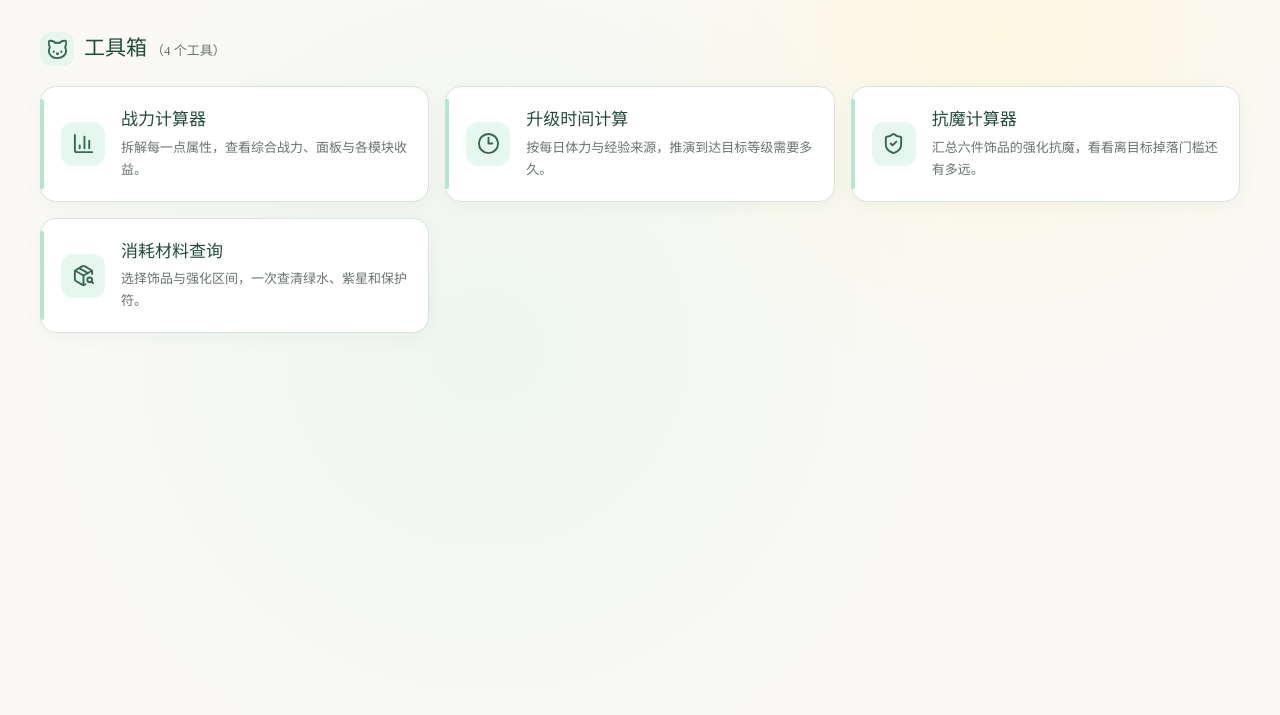
Test case: 多板块导航与状态 › 消耗材料查询 不显示顶部导出、导入、公式与清空按钮
The width and height of the screenshot is (1280, 715).
Click the link with aria-label "进入消耗材料查询".
click(235, 276)  # box [40, 218, 429, 333]
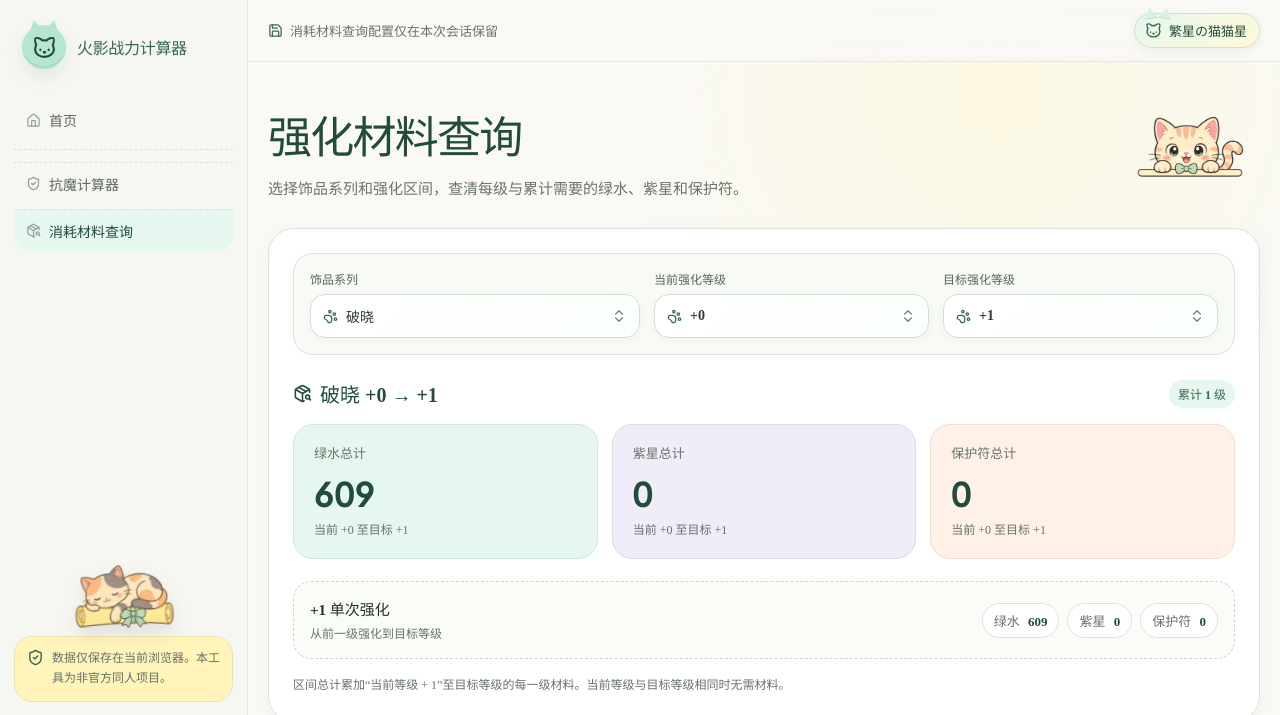
Expected: the button "下载 PDF" is not shown
Expected: the button "导入" is not shown
Click the button "首页".
click(124, 120)  # box [14, 99, 233, 141]
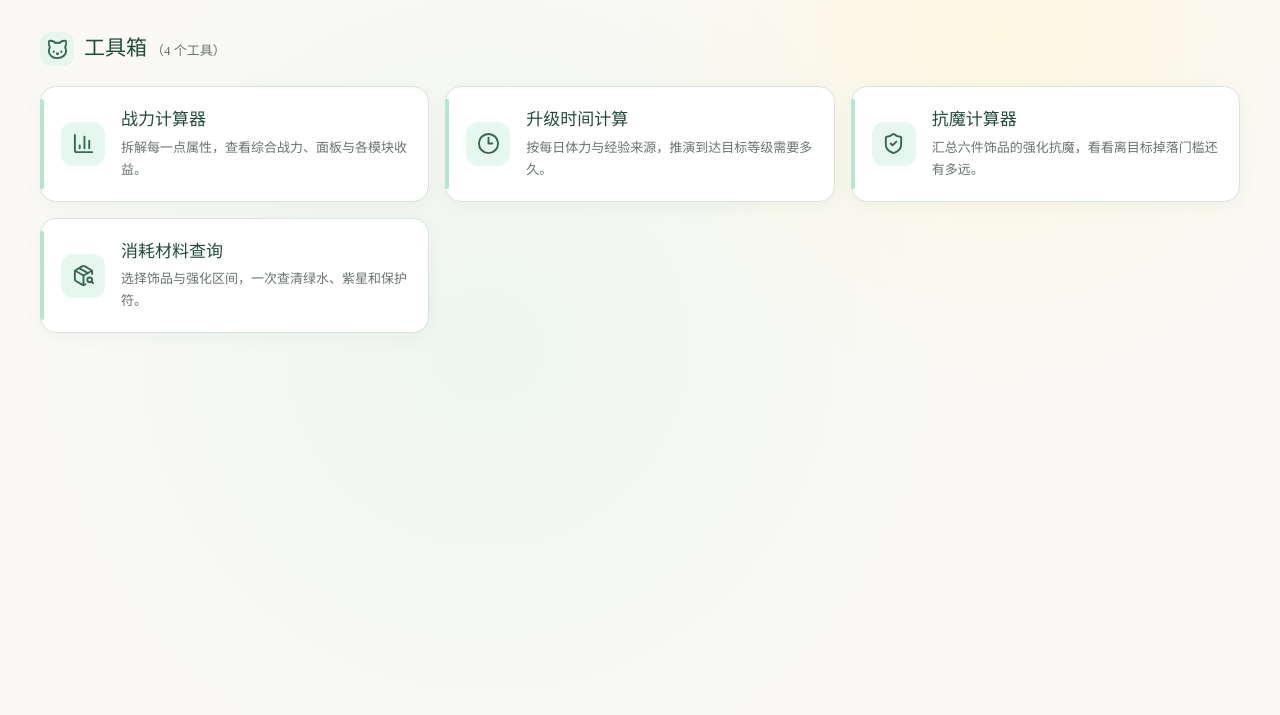
Click the link with aria-label "进入战力计算器".
click(235, 144)  # box [40, 86, 429, 202]
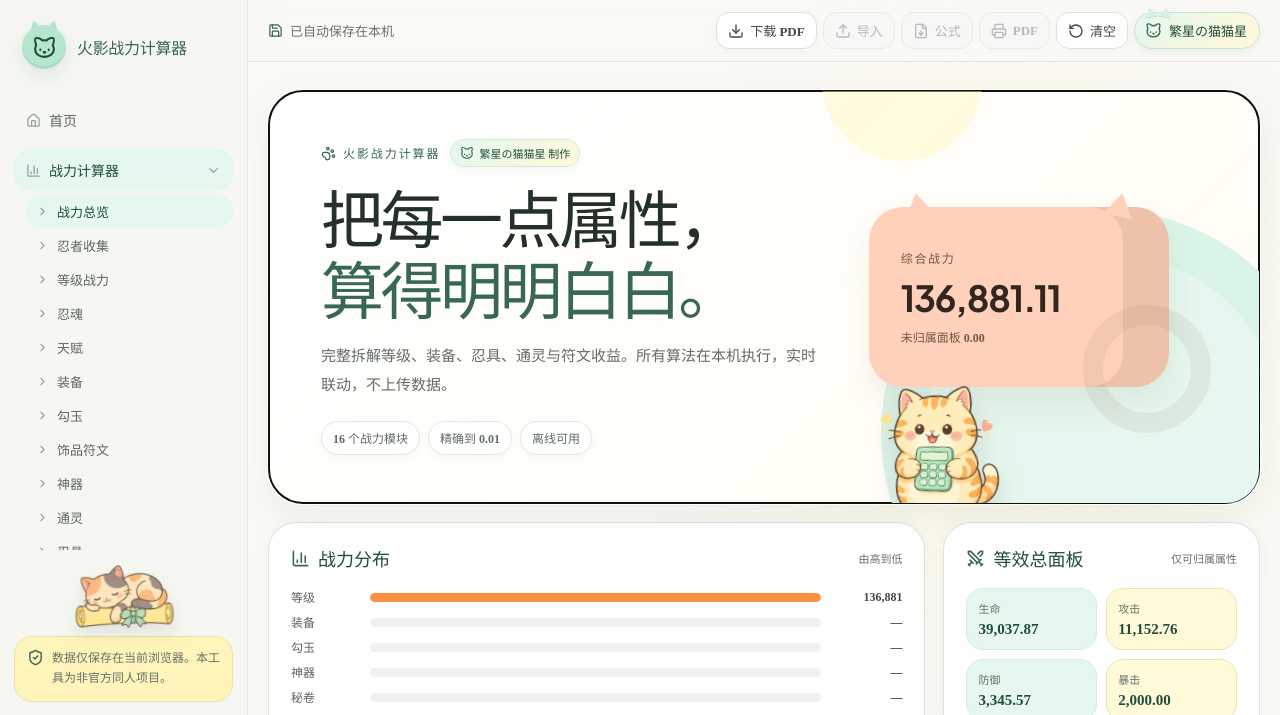
Result: the button "下载 PDF" is enabled at [716, 12, 817, 49]
Result: the button "清空" is shown at [1056, 12, 1128, 49]
